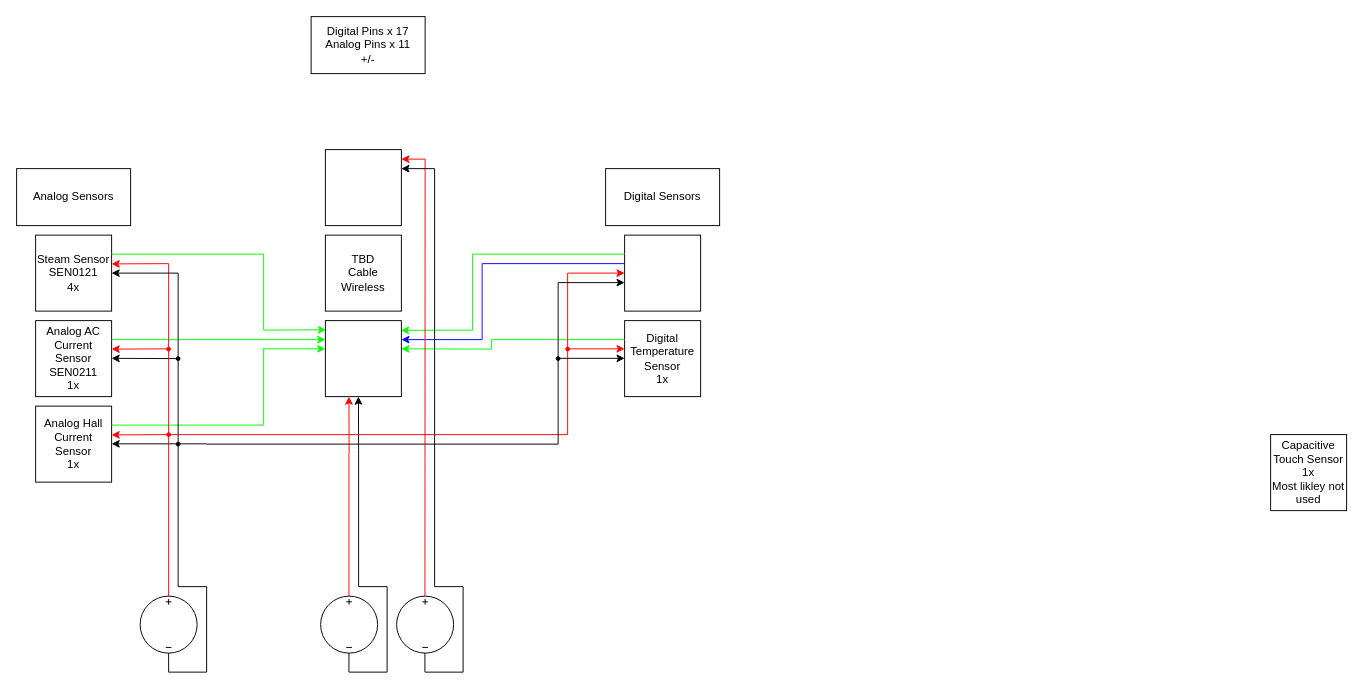
Image size: 1363x690. Some labels were removed from this diagram. The shapes that lost their labels are listed below. From the top down, each one's centre as x and y in pixels, then its label:
At point (362, 187): "Raspberry Pi".
At point (662, 272): "Digital Wattmeter 3x".
At point (362, 358): "ESP32".
